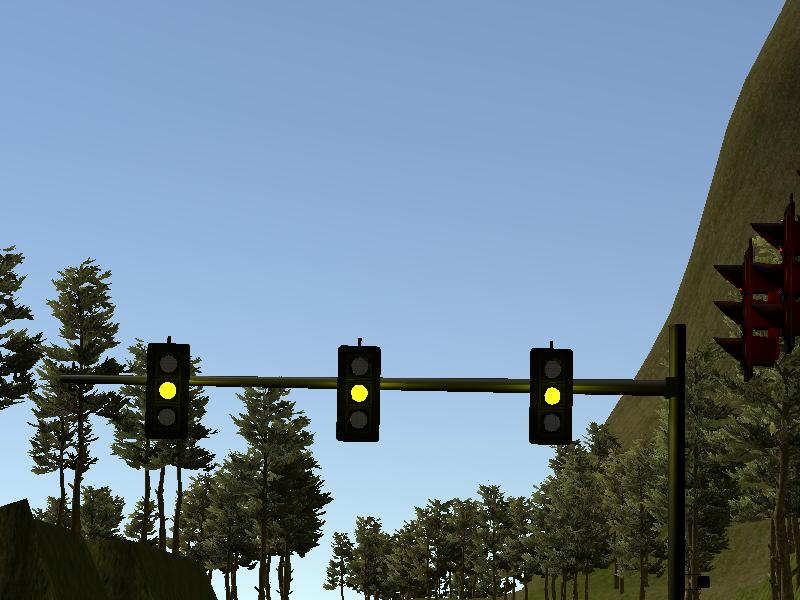Yellow: (145, 342, 191, 437), (338, 342, 380, 442), (532, 348, 572, 442)
